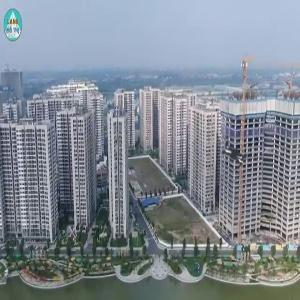drone: (200, 116, 274, 190)
